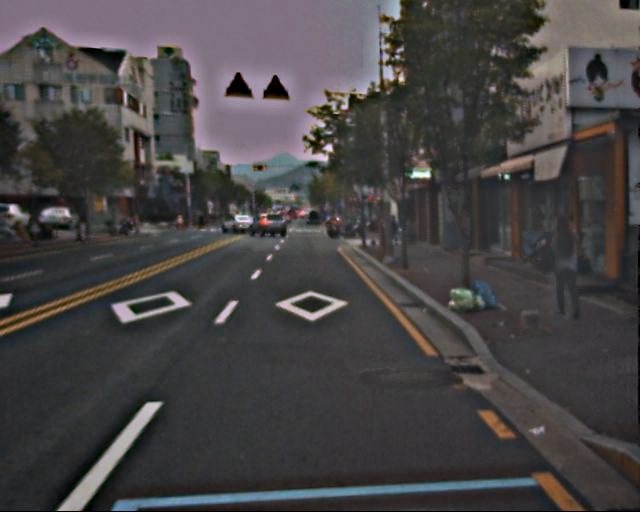person: (536, 218, 583, 325)
